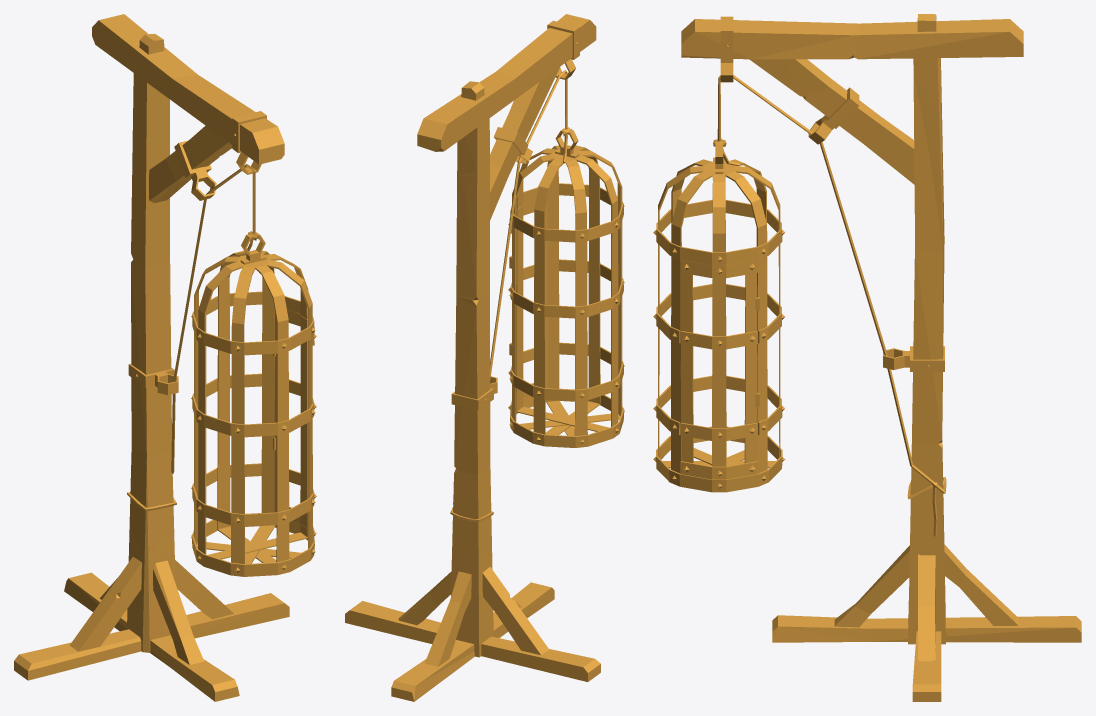
Rendered from gibbet.fbx.
3 views of the same model, side by side, from view 1: azimuth 30°, elevation 25°; view 2: azimuth 150°, elevation 25°; view 3: azimuth 270°, elevation 25° (orthographic). The views are drawn at different scales.
Visible parts, largest first — view 1: gibbet-base, gibbet-gate; view 2: gibbet-base, gibbet-gate; view 3: gibbet-base, gibbet-gate.
Part boxes in pixels (x1,y1,x2,y2): gibbet-base: [14, 14, 315, 701]; gibbet-gate: [274, 310, 316, 542]; gibbet-base: [345, 14, 624, 701]; gibbet-gate: [508, 200, 547, 415]; gibbet-base: [653, 14, 1081, 701]; gibbet-gate: [680, 260, 758, 479].
Bounding box in the file's own units: 1.78 × 3.95 × 2.47.
